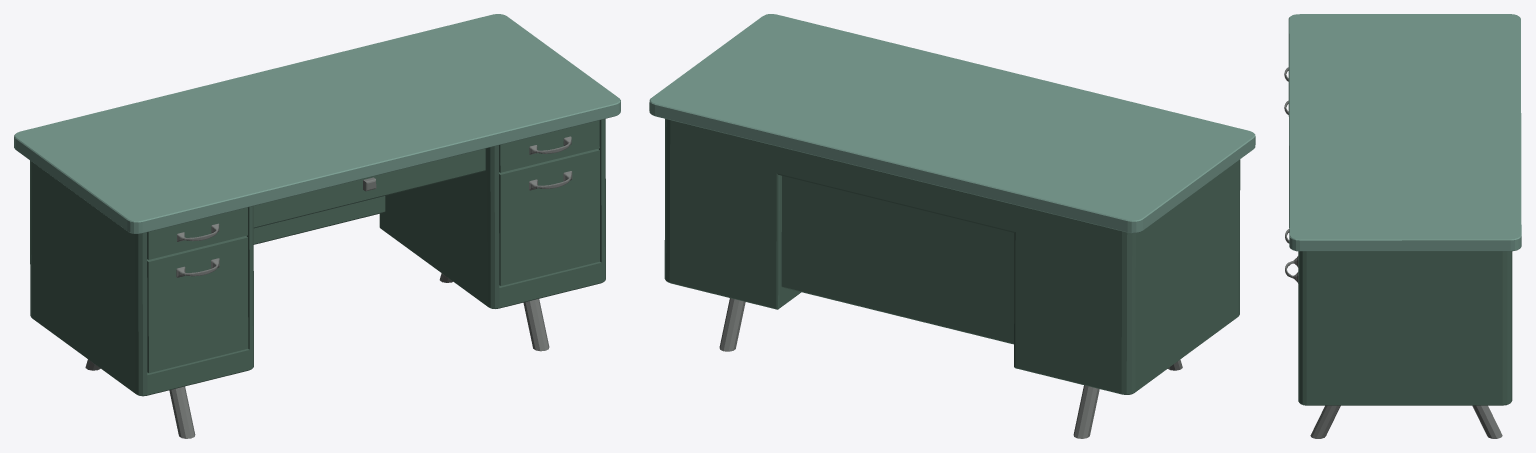
The model's file is vintage__retro_70s_inspired_desk.glb.
3 views of the same model, side by side, from view 1: azimuth 30°, elevation 25°; view 2: azimuth 150°, elevation 25°; view 3: azimuth 270°, elevation 25° (orthographic). The views are drawn at different scales.
Parts seen in each view (by area): view 1: Cube; view 2: Cube; view 3: Cube.
Part boxes in pixels (x1,y1,x2,y2): Cube: (14, 14, 620, 438); Cube: (649, 14, 1255, 438); Cube: (1284, 14, 1521, 438).
Size of the model in its own units: 2.52 by 1.18 by 1.11.
